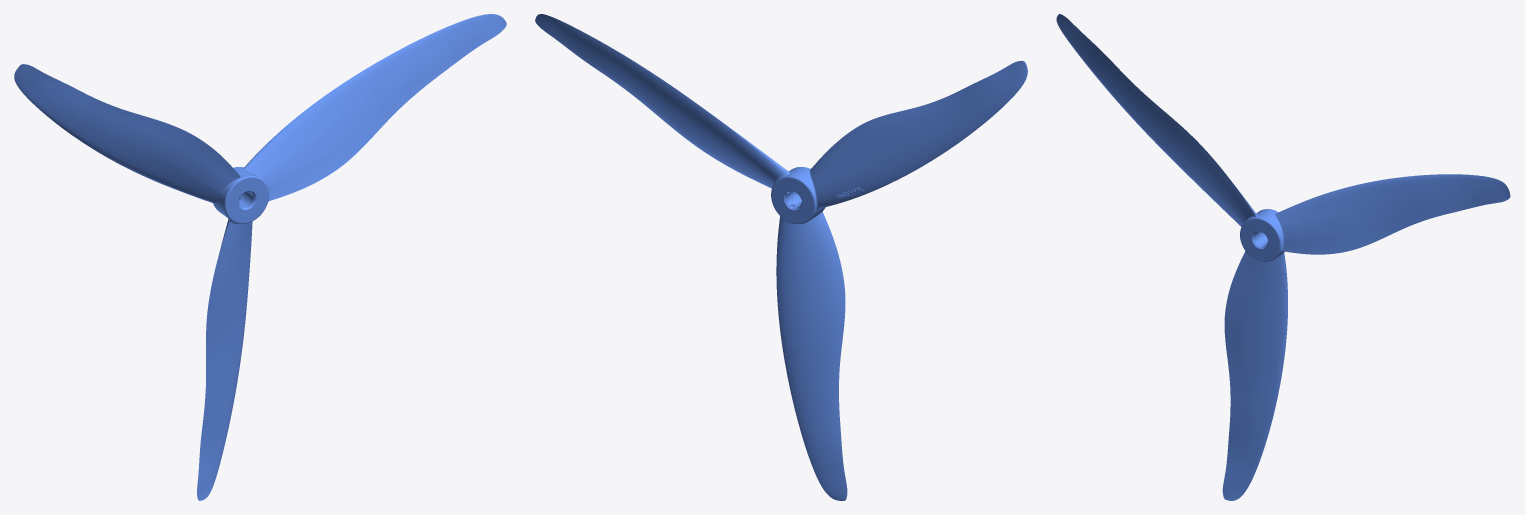
File: amovlab_prop_front_left.obj
3 views of the same model, side by side, from view 1: azimuth 30°, elevation 25°; view 2: azimuth 150°, elevation 25°; view 3: azimuth 330°, elevation 25° (orthographic). The views are drawn at different scales.
Parts seen in each view (by area): view 1: PropellerBlue; view 2: PropellerBlue; view 3: PropellerBlue.
Part boxes in pixels (x1,y1,x2,y2): PropellerBlue: (14, 14, 506, 500); PropellerBlue: (535, 14, 1027, 500); PropellerBlue: (1056, 14, 1510, 500).
Bounding box in the file's own units: 0.2385 × 0.2232 × 0.0125.
